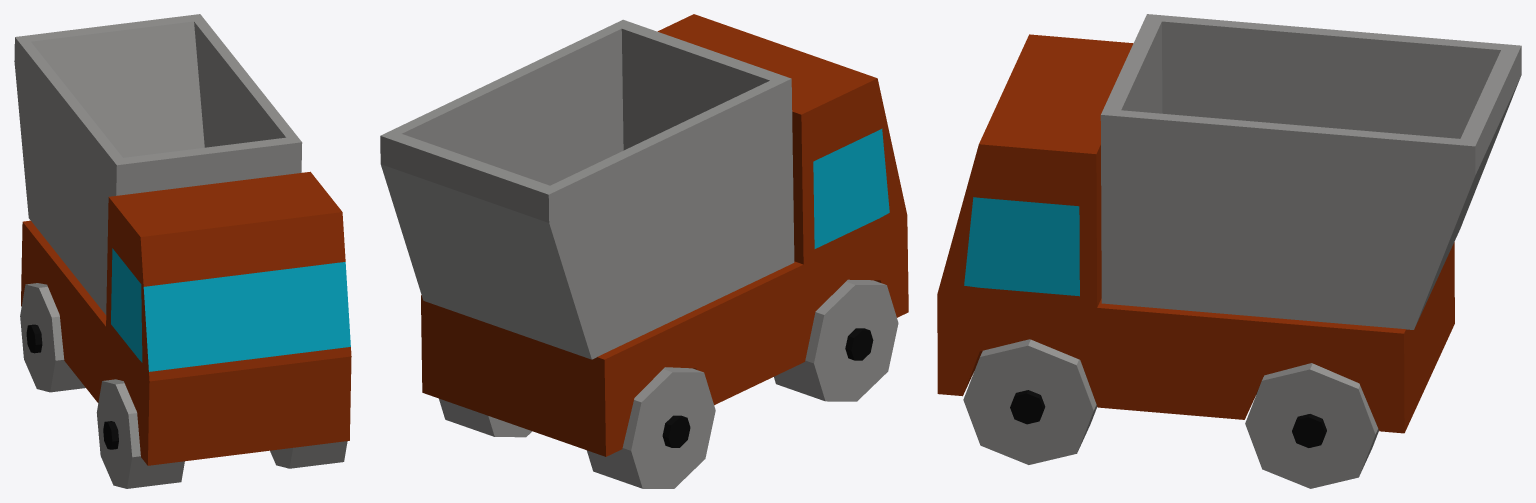
File: Playground_chil_car1_231109.glb
The picture shows the model from 3 angles, left to right: view 1: azimuth 30°, elevation 25°; view 2: azimuth 150°, elevation 25°; view 3: azimuth 270°, elevation 25°; orthographic projection. The views are drawn at different scales.
Parts seen in each view (by area): view 1: Playground_chil_car1; view 2: Playground_chil_car1; view 3: Playground_chil_car1.
Boxes of the visible parts, x1,y1,x2,y2 form: Playground_chil_car1: (14, 14, 351, 488); Playground_chil_car1: (380, 14, 908, 488); Playground_chil_car1: (937, 14, 1521, 488).
Size of the model in its own units: 0.524 by 0.5739 by 0.8547.
Materials: 1 (1 with a texture image).
